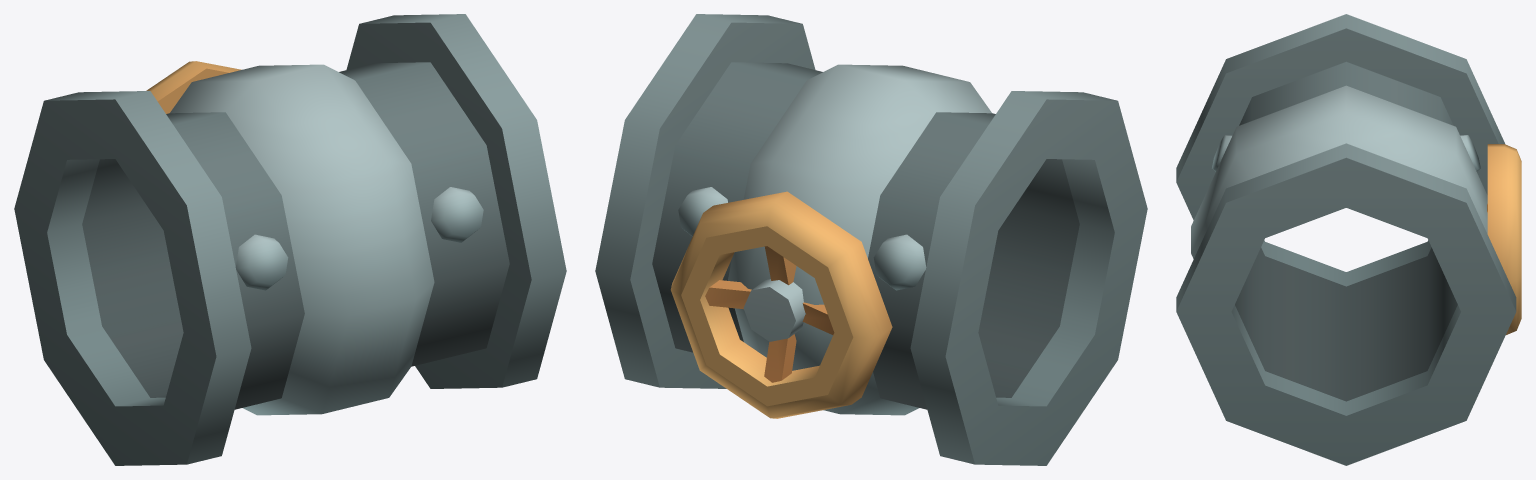
The model's file is pipe-large-valve.glb.
The picture shows the model from 3 angles, left to right: view 1: azimuth 30°, elevation 25°; view 2: azimuth 150°, elevation 25°; view 3: azimuth 270°, elevation 25°; orthographic projection. The views are drawn at different scales.
Visible parts, largest first — view 1: pipe-large-valve; view 2: pipe-large-valve; view 3: pipe-large-valve.
Part boxes in pixels (box(x1,y1,x2,y2)): pipe-large-valve: box(14, 14, 566, 465); pipe-large-valve: box(595, 14, 1147, 465); pipe-large-valve: box(1176, 14, 1521, 465).
Size of the model in its own units: 1 by 1 by 1.02.
1 material, 1 textured.
